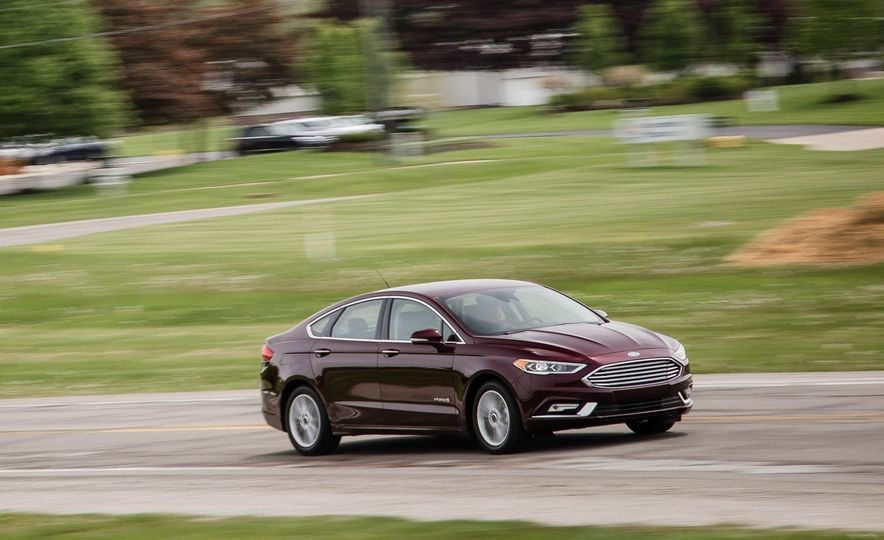car: (256, 278, 695, 453)
